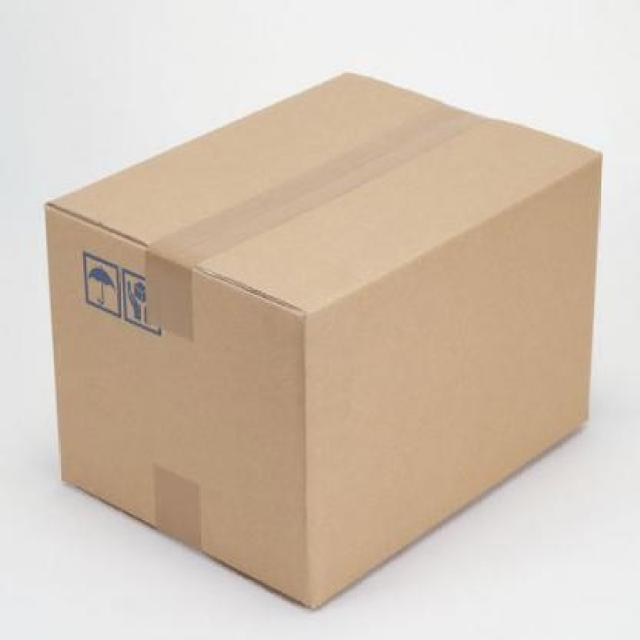box: (25, 58, 624, 611)
